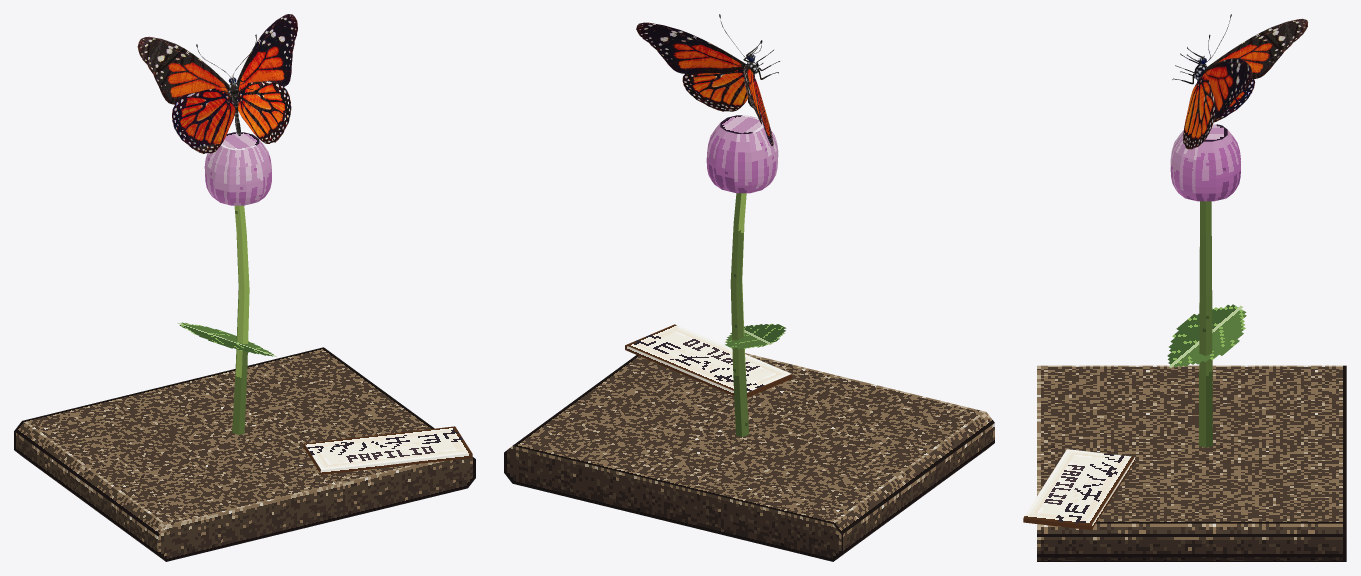
The model's file is ageha.glb.
3 views of the same model, side by side, from view 1: azimuth 30°, elevation 25°; view 2: azimuth 150°, elevation 25°; view 3: azimuth 270°, elevation 25° (orthographic). The views are drawn at different scales.
Parts seen in each view (by area): view 1: base, model_butterfly, label, flower, stem, leaf; view 2: base, model_butterfly, label, flower, stem, leaf; view 3: base, model_butterfly, label, flower, stem, leaf.
Boxes of the visible parts, <box> form: base: <box>14,347,475,561</box>; model_butterfly: <box>137,14,297,153</box>; label: <box>303,426,472,474</box>; flower: <box>204,132,271,205</box>; stem: <box>232,205,249,434</box>; leaf: <box>177,322,276,356</box>; base: <box>504,353,994,561</box>; model_butterfly: <box>636,14,779,145</box>; label: <box>625,324,792,397</box>; flower: <box>706,115,778,193</box>; stem: <box>730,193,748,436</box>; leaf: <box>725,323,786,349</box>; base: <box>1037,365,1346,561</box>; model_butterfly: <box>1172,14,1307,149</box>; label: <box>1023,449,1134,530</box>; flower: <box>1170,123,1240,201</box>; stem: <box>1199,201,1212,447</box>; leaf: <box>1167,304,1246,367</box>.
Size of the model in its own units: 28.44 by 35.98 by 22.97.
Materials: 3 (3 with a texture image).
